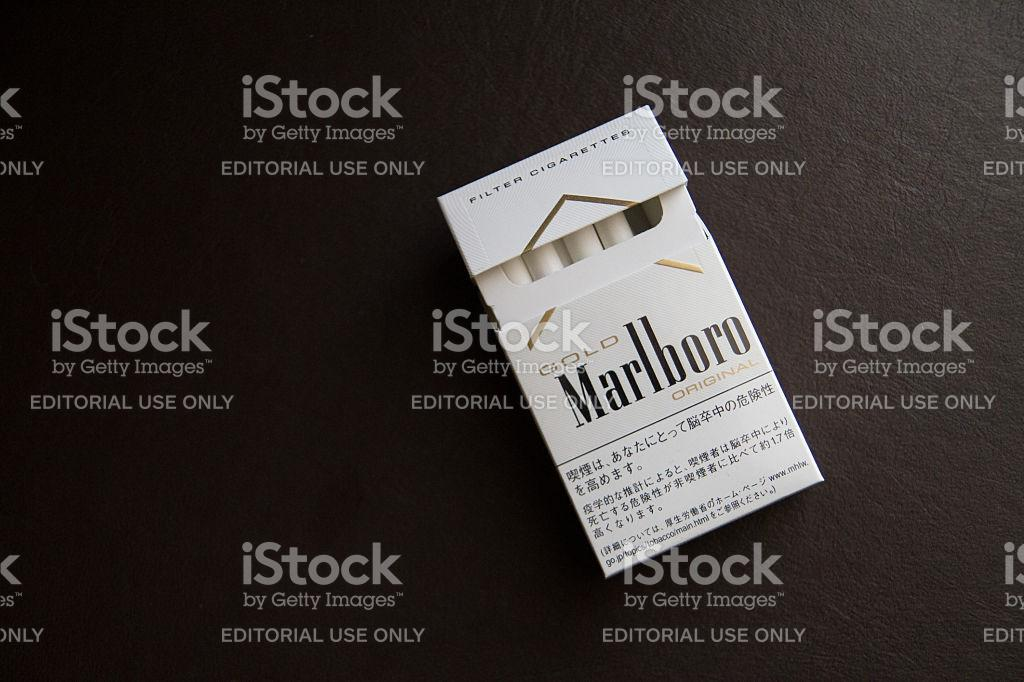marlboro_gold: (508, 149, 727, 451)
